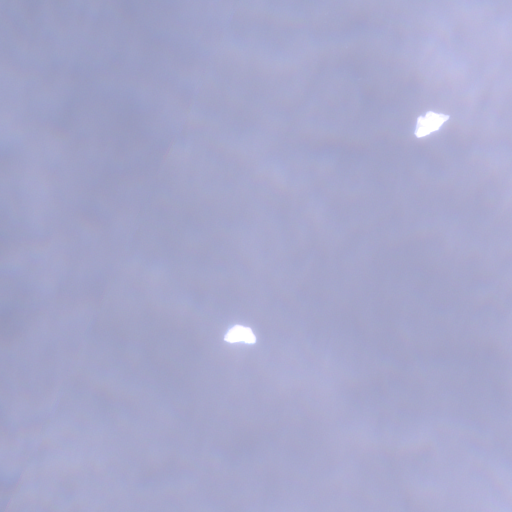Iceberg: (415, 111, 449, 137), (224, 325, 255, 343)
